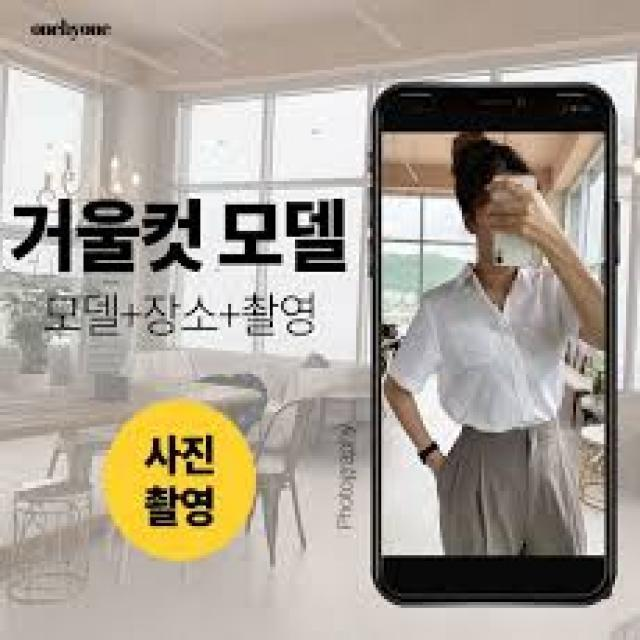Phone: (366, 72, 618, 612), (488, 173, 541, 271)
